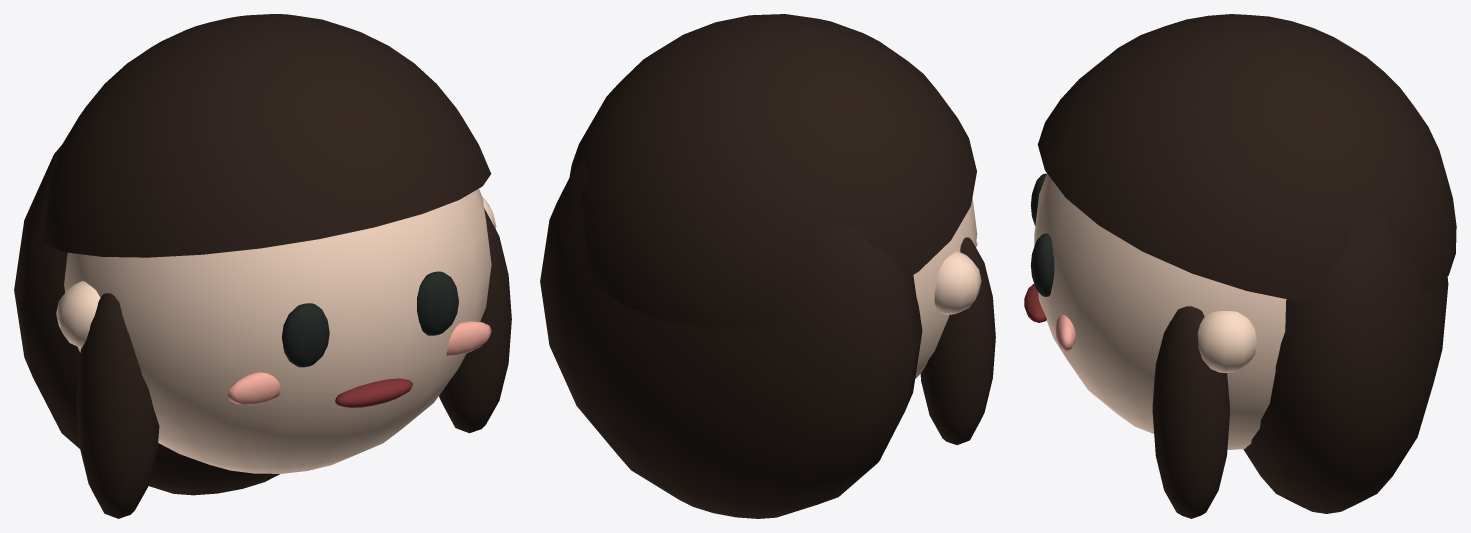
File: haneul.glb
3 views of the same model, side by side, from view 1: azimuth 30°, elevation 25°; view 2: azimuth 150°, elevation 25°; view 3: azimuth 270°, elevation 25° (orthographic). The views are drawn at different scales.
Parts seen in each view (by area): view 1: hair, face, strand-1, hairBack, strand1, eyeL, eyeR, ear-1, mouth, cheekL, cheekR; view 2: hair, hairBack, strand-1, face, ear-1; view 3: hair, hairBack, face, strand1, ear1, eyeR, cheekR, mouth.
Part boxes in pixels (x1,y1,x2,y2): hair: (43,14,491,257); face: (64,188,491,473); strand-1: (76,293,159,518); hairBack: (14,144,279,495); strand1: (439,208,511,433); eyeL: (281,303,329,367); eyeR: (417,271,458,335); ear-1: (56,281,100,347); mouth: (335,378,412,407); cheekL: (227,372,280,405); cheekR: (446,321,491,356); hair: (569,14,976,329); hairBack: (540,159,922,518); strand-1: (920,237,995,445); face: (913,197,977,378); ear-1: (934,251,981,314); hair: (1037,14,1456,303); hairBack: (1243,216,1448,513); face: (1034,173,1286,449); strand1: (1152,306,1229,518); ear1: (1197,311,1257,372); eyeR: (1030,233,1054,296); cheekR: (1056,314,1075,351); mouth: (1024,284,1046,322).
Bounding box in the file's own units: 1.4 × 1.5 × 1.28.
